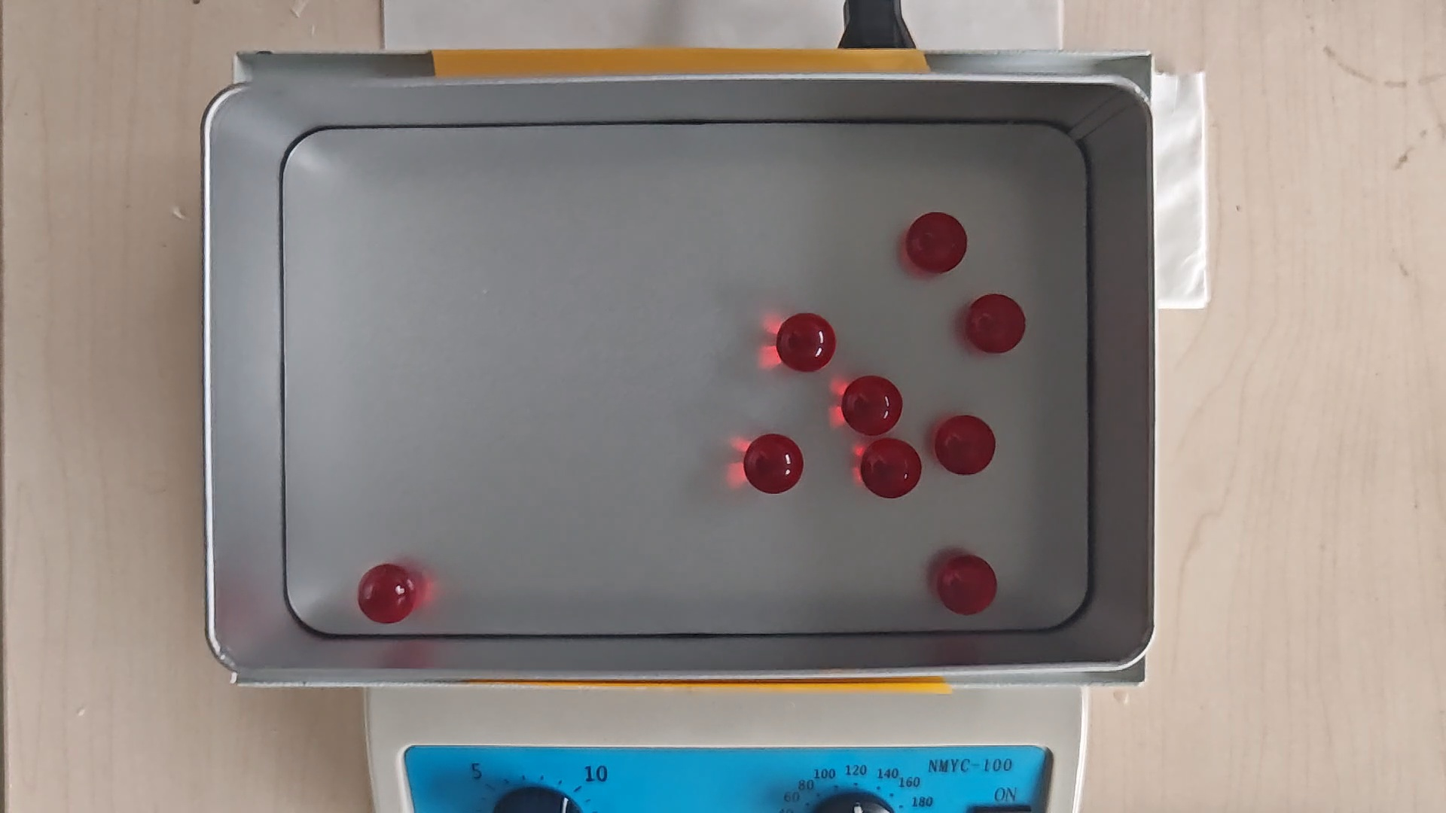ball: (906, 211, 968, 274), (934, 414, 996, 476), (861, 437, 922, 500), (743, 433, 804, 495), (841, 375, 903, 436), (936, 554, 997, 616), (966, 293, 1026, 356), (776, 312, 836, 374), (357, 564, 417, 624)
container: (283, 122, 1090, 635)
